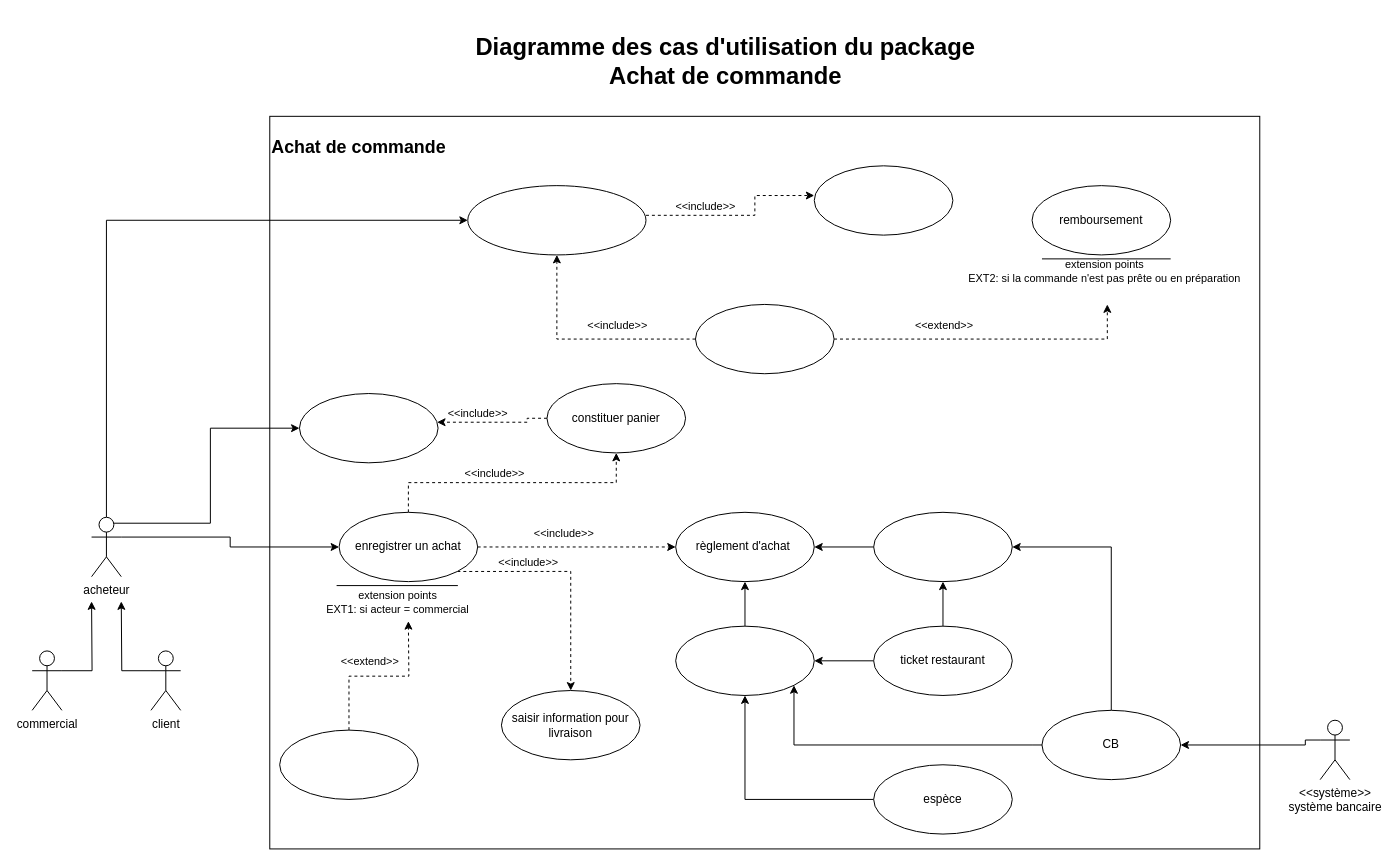
Some shapes in this 1399 by 866 pixel diagram are drawn without their labels. Each missing label, with the centre of its shape:
consulter catalogue des produits: (x=368, y=428)
consulter la commande: (x=556, y=220)
consulter le statut de la commande: (x=883, y=200)
gérer la commande: (x=764, y=338)
payement en ligne: (x=942, y=546)
payement sur place: (x=744, y=660)
sélectionner un client: (x=348, y=764)
